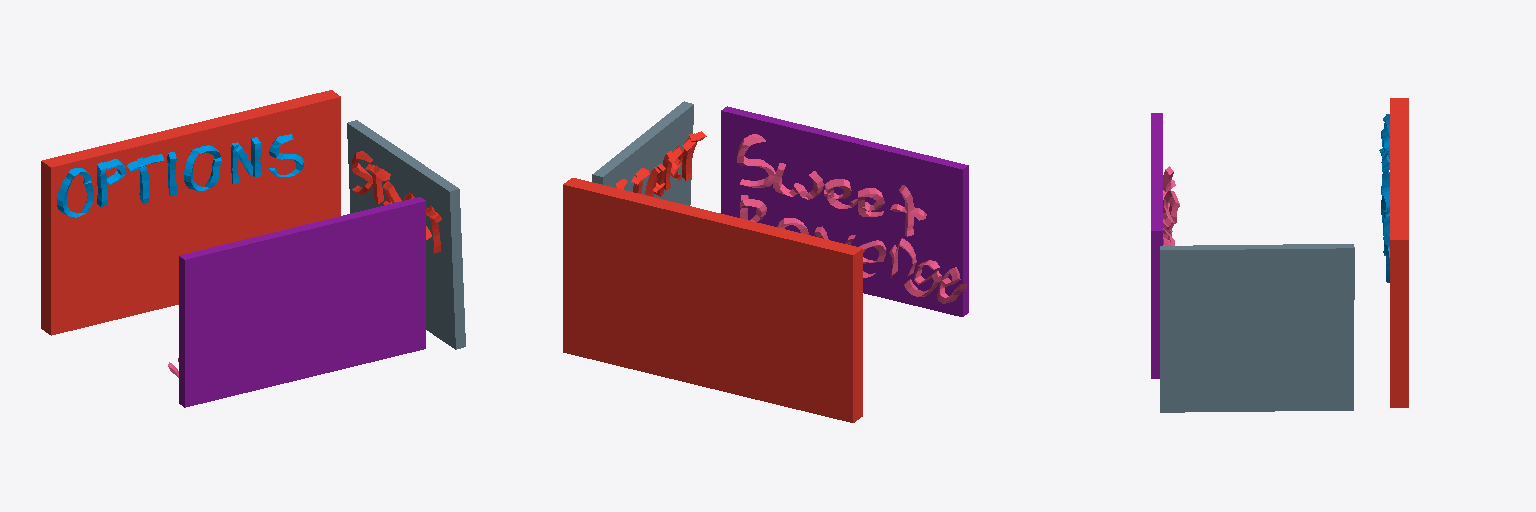
3 views of the same model, side by side, from view 1: azimuth 30°, elevation 25°; view 2: azimuth 150°, elevation 25°; view 3: azimuth 270°, elevation 25° (orthographic).
Parts seen in each view (by area): view 1: group[number redacted], group[number redacted], group[number redacted], group[number redacted], group[number redacted], group[number redacted]; view 2: group[number redacted], group[number redacted], group[number redacted], group[number redacted], group[number redacted], group[number redacted], group[number redacted], group[number redacted], group[number redacted]; view 3: group[number redacted], group[number redacted], group[number redacted].
Part boxes in pixels (left/top/right/bottom): group[number redacted]: left=41, top=90, right=340, bottom=335; group[number redacted]: left=179, top=197, right=425, bottom=407; group[number redacted]: left=347, top=120, right=465, bottom=349; group[number redacted]: left=57, top=168, right=93, bottom=217; group[number redacted]: left=268, top=134, right=304, bottom=176; group[number redacted]: left=184, top=145, right=220, bottom=190; group[number redacted]: left=563, top=178, right=862, bottom=422; group[number redacted]: left=721, top=106, right=968, bottom=316; group[number redacted]: left=592, top=101, right=693, bottom=205; group[number redacted]: left=737, top=134, right=775, bottom=187; group[number redacted]: left=773, top=163, right=823, bottom=199; group[number redacted]: left=904, top=260, right=941, bottom=296; group[number redacted]: left=858, top=188, right=884, bottom=216; group[number redacted]: left=824, top=179, right=857, bottom=208; group[number redacted]: left=937, top=267, right=967, bottom=303; group[number redacted]: left=1160, top=244, right=1354, bottom=412; group[number redacted]: left=1390, top=98, right=1408, bottom=407; group[number redacted]: left=1151, top=113, right=1162, bottom=378.
Size of the model in its own units: 2.34 by 1.26 by 1.74.